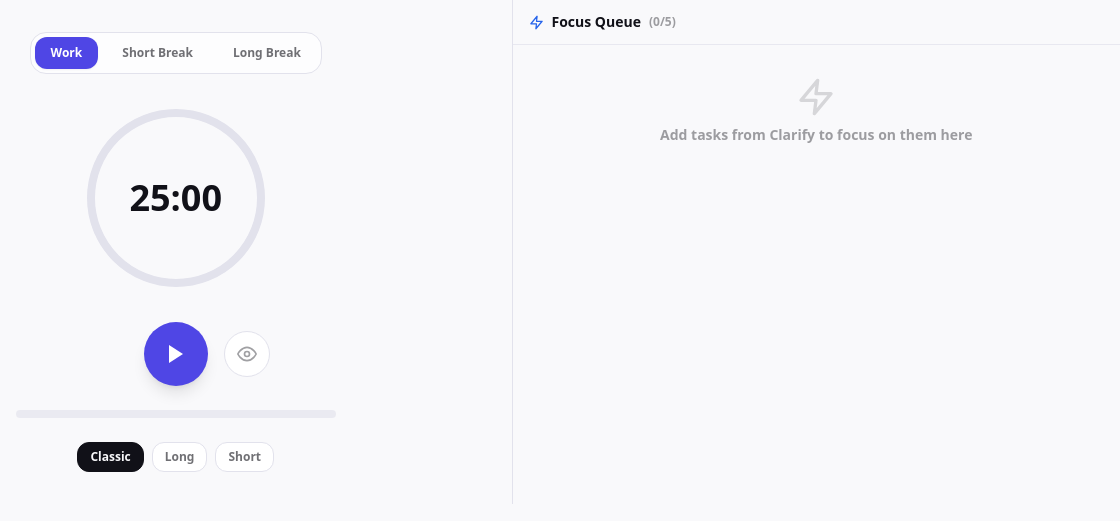
Scenario: Focus › 4c-5: clicking Short Break mode changes timer display
This screenshot has width=1120, height=521.
Click the button labelled "Short Break": click(158, 53) [106, 37, 209, 69]
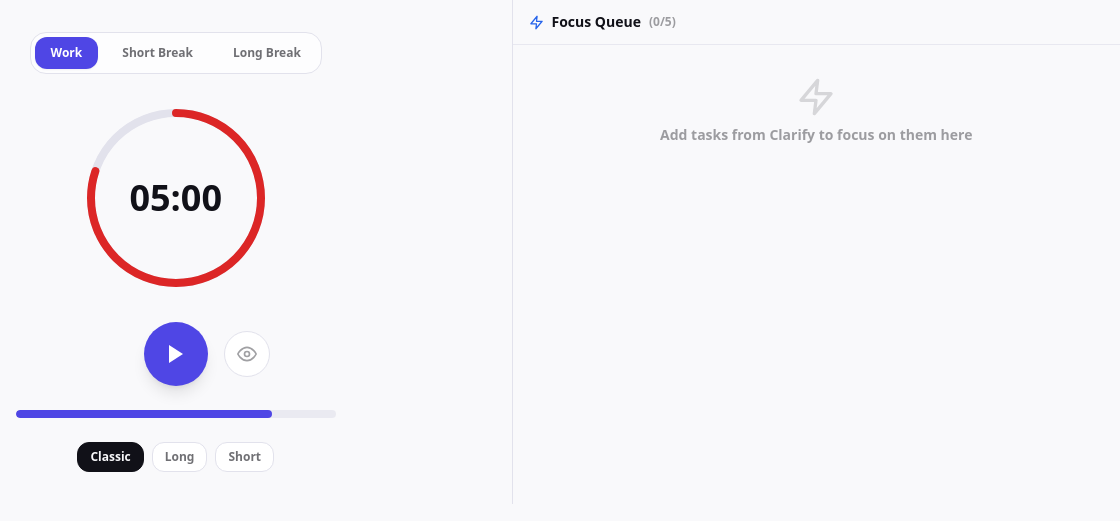
Expected: the text with test id "timer-display" reads "05:00", [129, 173, 222, 222]
